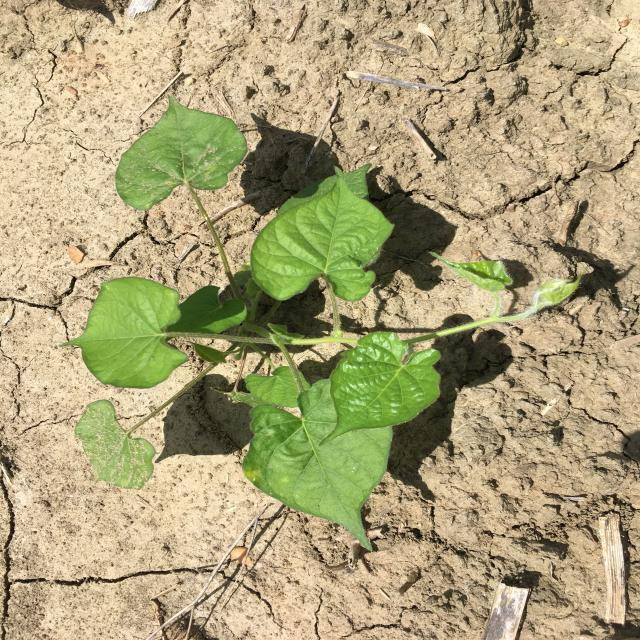MorningGlory: (58, 93, 582, 552)
